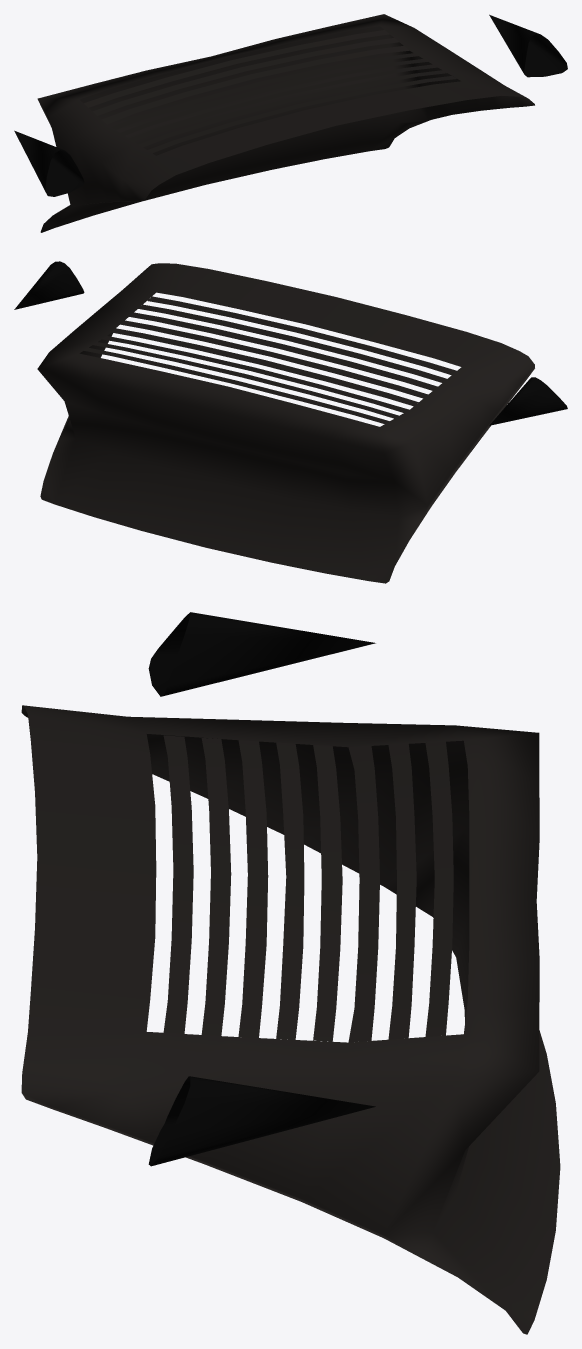
Rendered from RWB_Boot_02_Trim.fbx.
3 views of the same model, one above another, from view 1: azimuth 30°, elevation 25°; view 2: azimuth 150°, elevation 25°; view 3: azimuth 270°, elevation 25° (orthographic). The views are drawn at different scales.
Visible parts, largest first — view 1: RWB_Boot_02_Trim; view 2: RWB_Boot_02_Trim; view 3: RWB_Boot_02_Trim.
Boxes of the visible parts, left/top/right/bottom form: RWB_Boot_02_Trim: left=14, top=14, right=567, bottom=232; RWB_Boot_02_Trim: left=14, top=261, right=567, bottom=583; RWB_Boot_02_Trim: left=21, top=612, right=560, bottom=1334.
Bounding box in the file's own units: 129 × 37.91 × 57.66.
